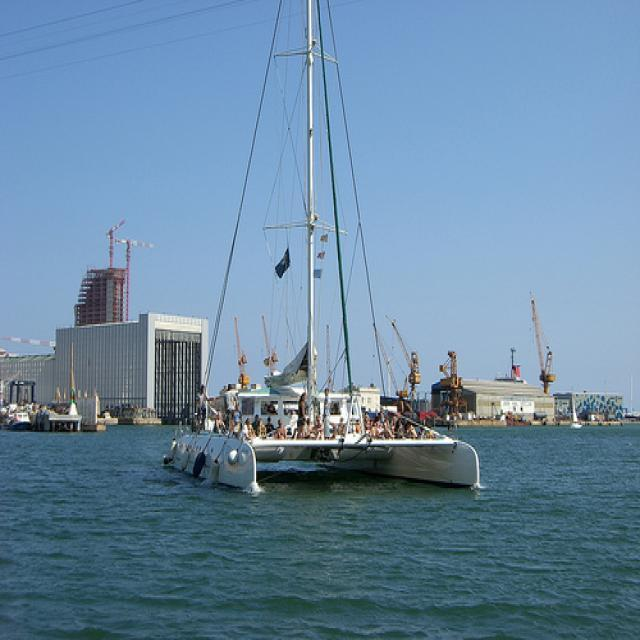Ship: (157, 1, 498, 502)
